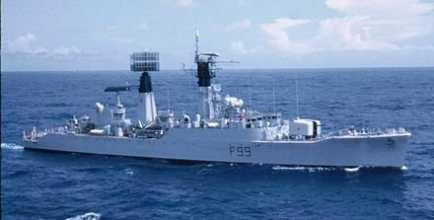warship: (17, 61, 418, 166)
